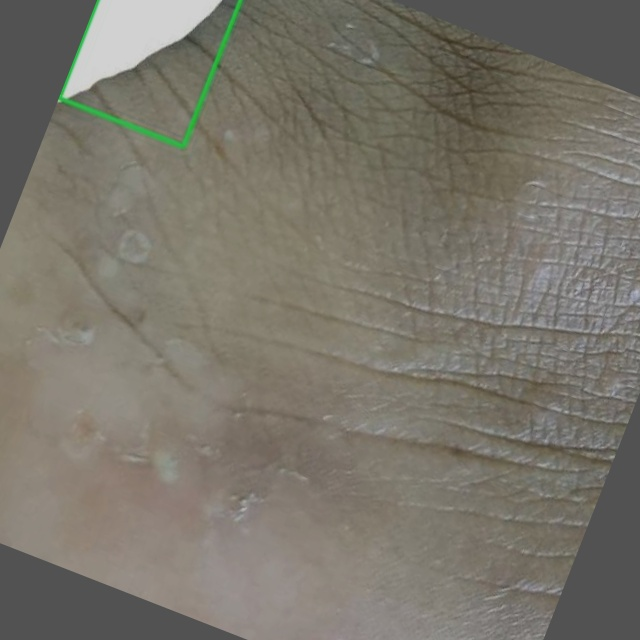Scabies: (59, 0, 240, 146)
